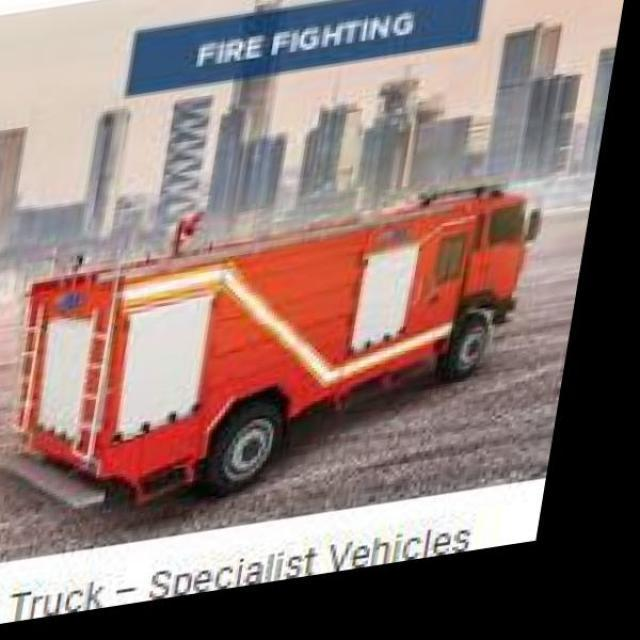emergency: (13, 178, 543, 508)
